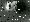person: (12, 3, 17, 15), (7, 1, 11, 13)
